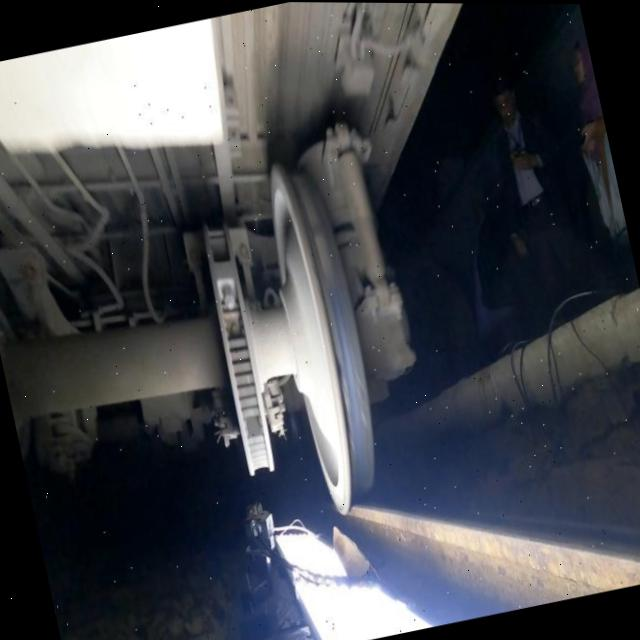Cracks-Scratches: (334, 350, 354, 451), (350, 363, 369, 427)
Shelling: (292, 175, 336, 276)
Wheel: (270, 164, 374, 513)
